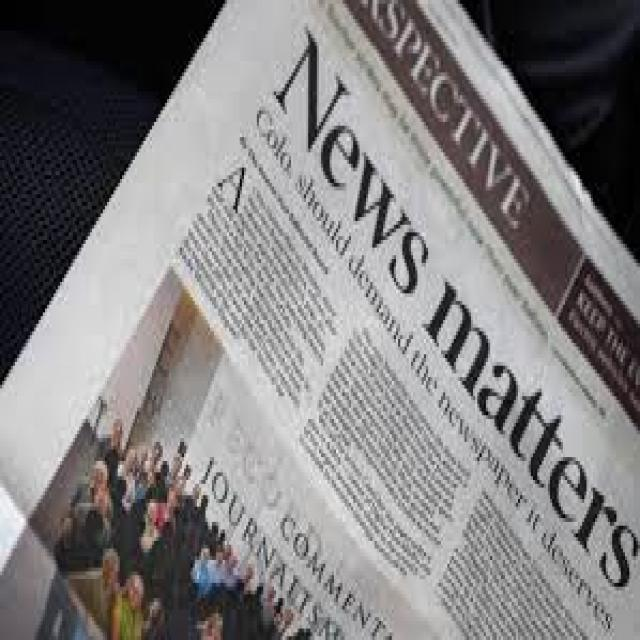Newspaper: (4, 0, 640, 640)
